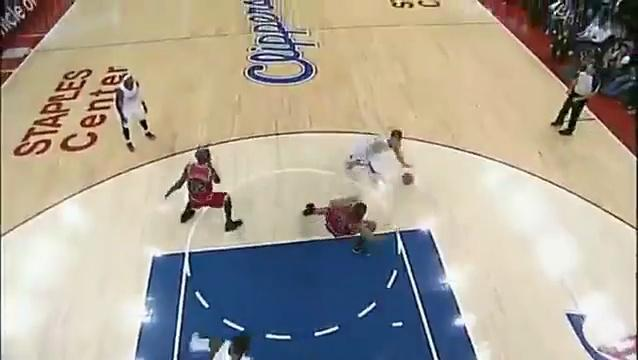Ball: (403, 172, 414, 185)
Person: (166, 142, 247, 234), (302, 193, 375, 258), (343, 128, 415, 187), (110, 72, 160, 154), (203, 331, 269, 359)
Referee: (552, 53, 606, 137)
